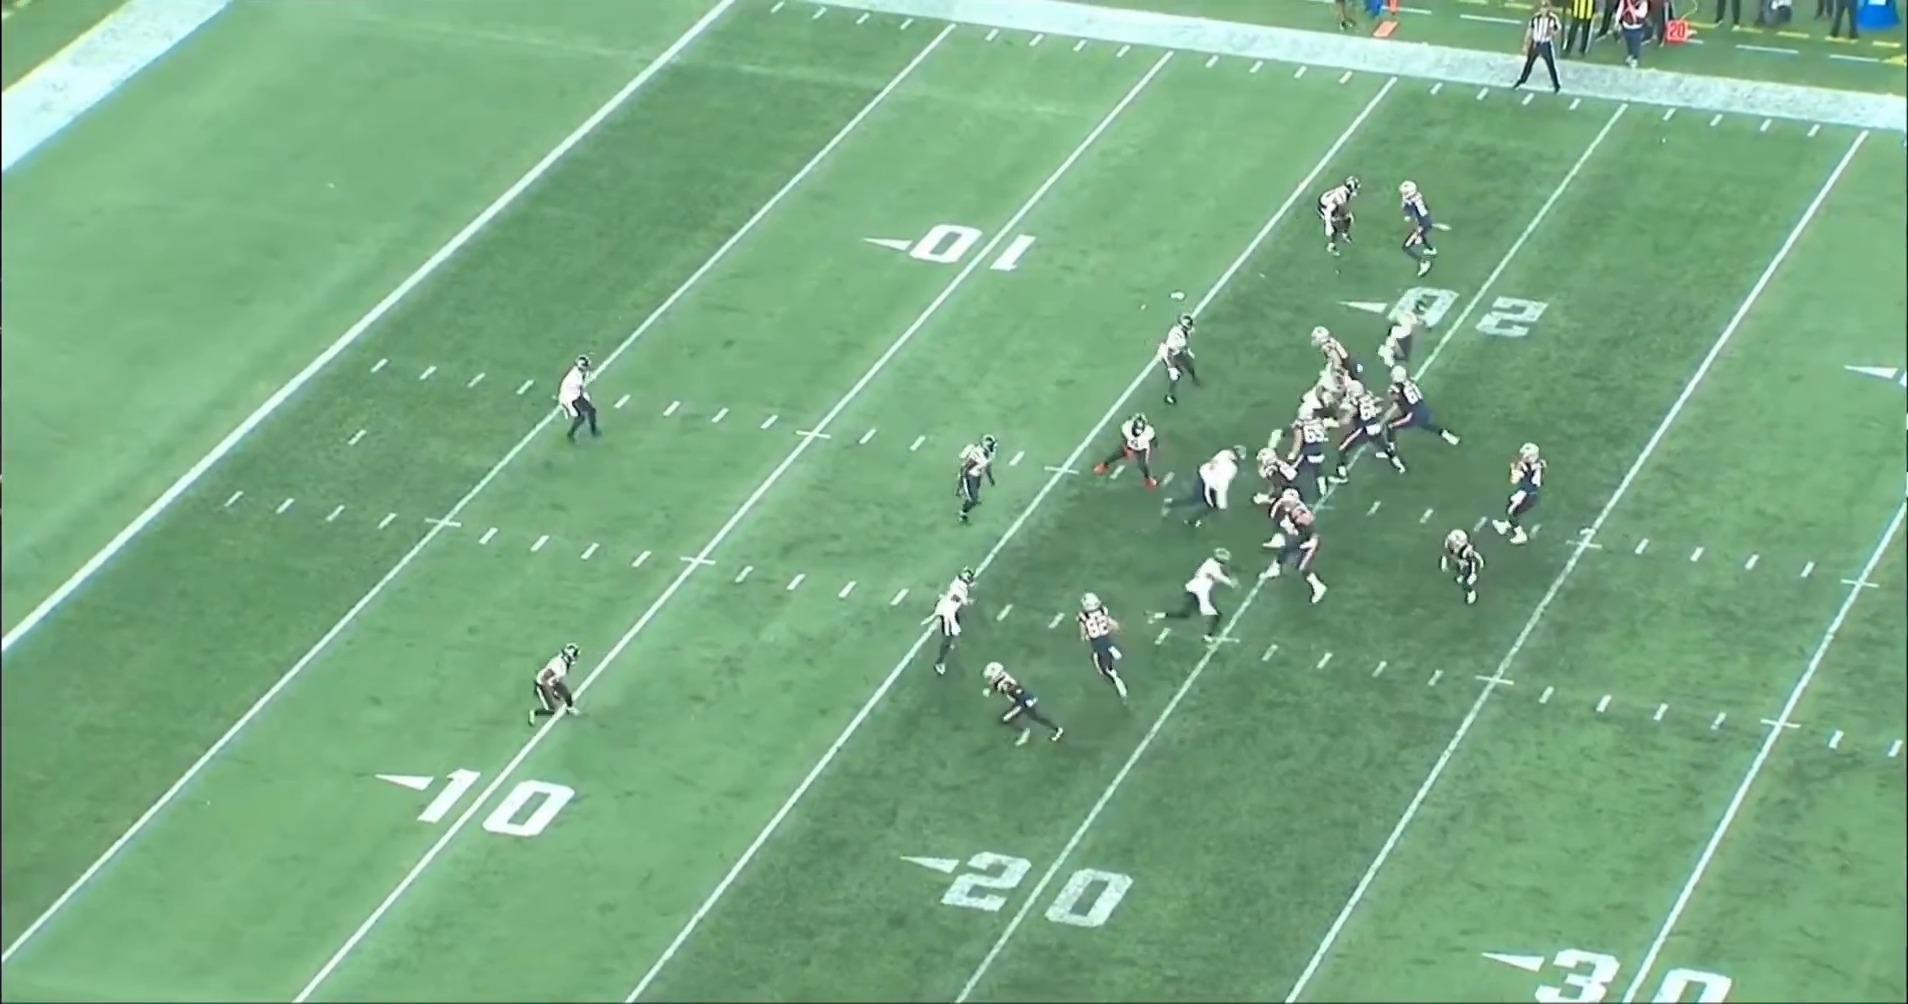player: (1149, 550, 1239, 647), (1254, 497, 1332, 606), (975, 659, 1063, 750), (1328, 390, 1409, 485), (1265, 365, 1355, 450), (1164, 447, 1252, 532), (1378, 363, 1459, 450), (1072, 589, 1130, 703), (1484, 440, 1546, 545), (923, 564, 978, 679), (1400, 174, 1457, 276), (1089, 411, 1159, 494), (525, 640, 583, 730), (957, 428, 1006, 526), (554, 355, 602, 454), (1162, 309, 1210, 406), (1285, 404, 1336, 495), (1319, 173, 1368, 260), (1254, 445, 1311, 516), (1442, 528, 1491, 610), (1306, 321, 1366, 387), (1379, 297, 1429, 376)
ref: (1515, 6, 1574, 98)
